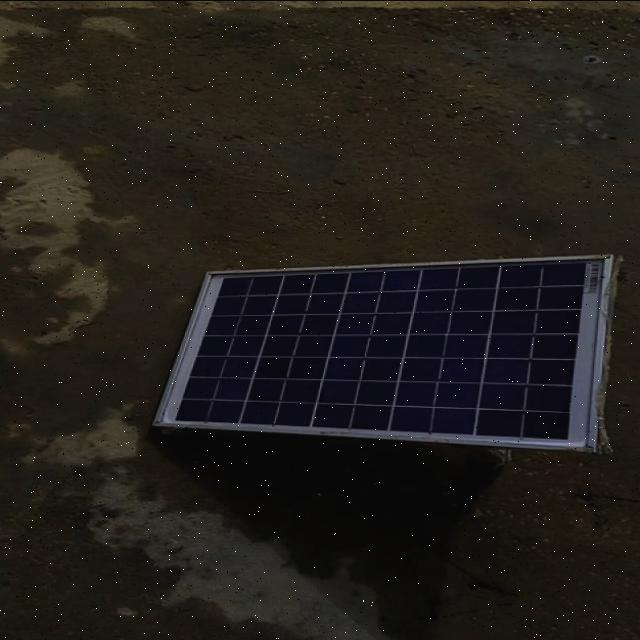Normal Solar Panel: (153, 256, 614, 449)
